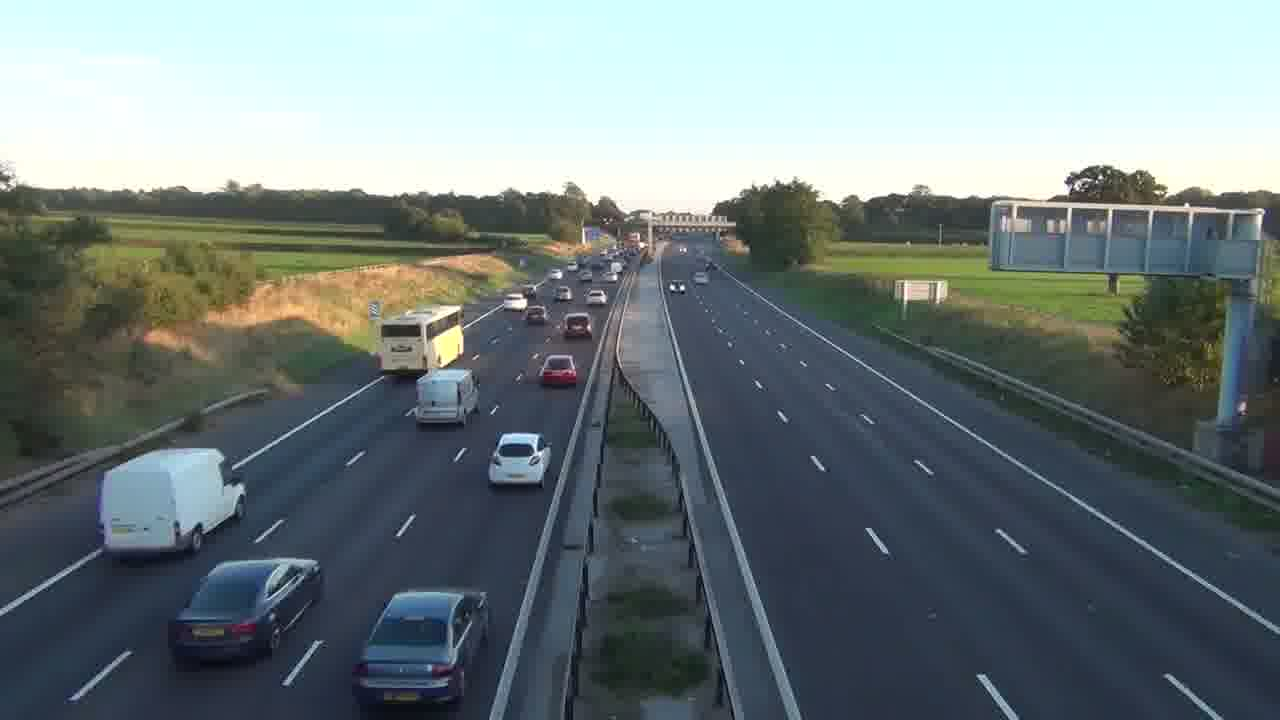car: (350, 588, 492, 713), (168, 557, 324, 668), (536, 353, 578, 387), (561, 312, 593, 340), (586, 288, 607, 306)
truck: (98, 447, 247, 560), (377, 306, 465, 377), (415, 367, 479, 428)
